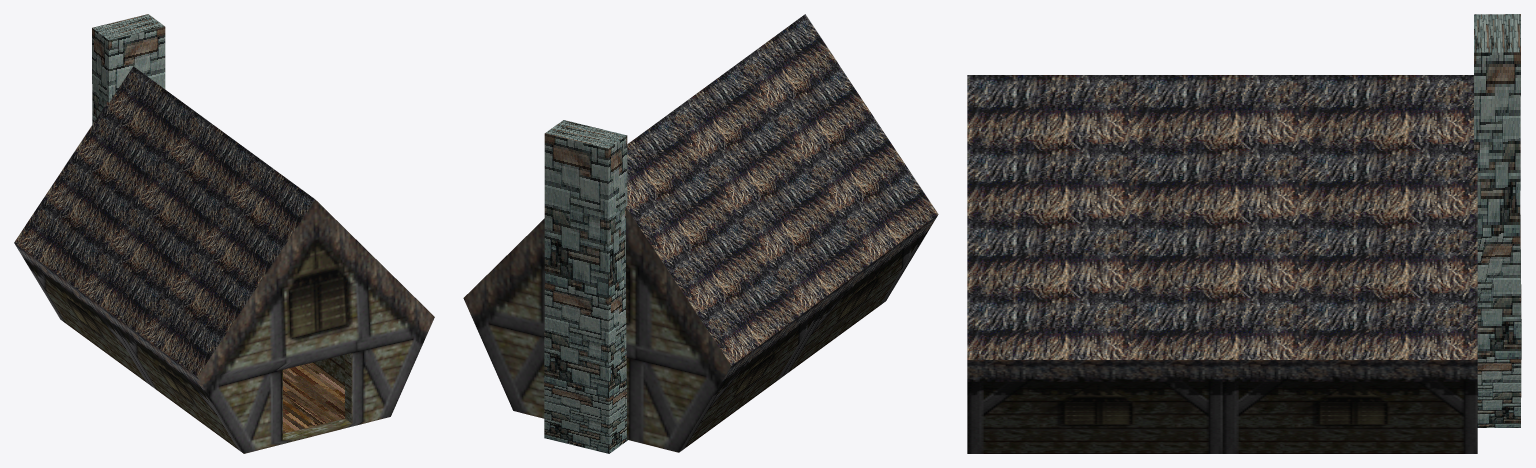
Rendered from RHouse1.fbx.
The picture shows the model from 3 angles, left to right: view 1: azimuth 30°, elevation 25°; view 2: azimuth 150°, elevation 25°; view 3: azimuth 270°, elevation 25°; orthographic projection. The views are drawn at different scales.
Visible parts, largest first — view 1: RHOUSE1; view 2: RHOUSE1; view 3: RHOUSE1.
Boxes of the visible parts, bbox=[...] form: RHOUSE1: bbox=[14, 14, 434, 453]; RHOUSE1: bbox=[463, 14, 938, 453]; RHOUSE1: bbox=[967, 14, 1521, 453].
Size of the model in its own units: 34.47 by 37.45 by 50.08.
